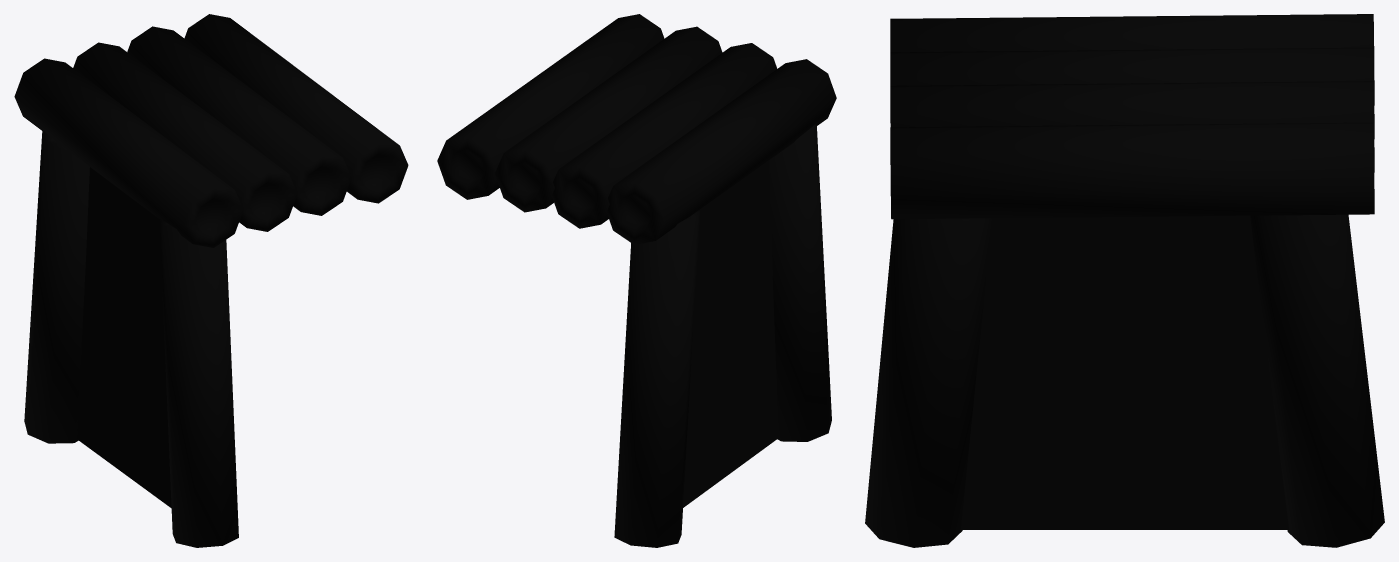
The model's file is Spawner.fbx.
The picture shows the model from 3 angles, left to right: view 1: azimuth 30°, elevation 25°; view 2: azimuth 150°, elevation 25°; view 3: azimuth 270°, elevation 25°; orthographic projection. The views are drawn at different scales.
Visible parts, largest first — view 1: Void, Log.001, Log.002, Log, Log.003, Log.004, Log.005; view 2: Void, Log, Log.002, Log.001, Log.004, Log.003, Log.005; view 3: Void, Log.005, Log, Log.001, Log.004, Log.002, Log.003.
Boxes of the visible parts, x1,y1,x2,y2 form: Void: (77, 167, 171, 508); Log.001: (159, 218, 238, 547); Log.002: (14, 58, 243, 247); Log: (24, 130, 89, 443); Log.003: (73, 42, 297, 231); Log.004: (127, 26, 350, 215); Log.005: (184, 14, 408, 203); Void: (683, 160, 778, 507); Log: (614, 210, 699, 547); Log.002: (606, 59, 836, 244); Log.001: (769, 124, 831, 441); Log.004: (495, 26, 722, 212); Log.003: (552, 43, 777, 228); Log.005: (437, 14, 664, 199); Void: (960, 215, 1289, 529); Log.005: (890, 122, 1374, 219); Log: (1250, 214, 1384, 547); Log.001: (865, 218, 991, 547); Log.004: (890, 81, 1374, 172); Log.002: (890, 14, 1374, 105); Log.003: (890, 47, 1374, 138).
Bounding box in the file's own units: 188 × 295 × 265.
